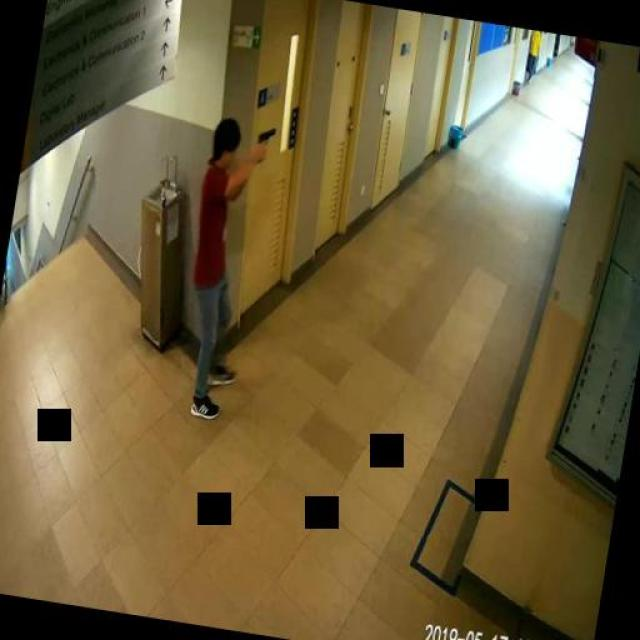gun: (249, 120, 279, 164)
